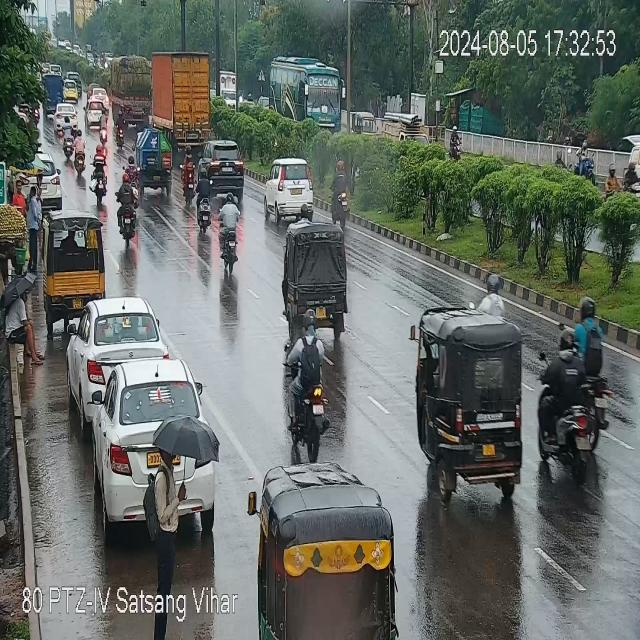2-wheelers: (540, 325, 622, 467), (285, 324, 327, 443), (216, 196, 241, 276), (118, 168, 143, 244), (328, 164, 351, 226), (90, 140, 110, 202), (196, 170, 213, 233), (179, 148, 197, 202), (72, 131, 87, 178), (114, 112, 127, 149), (448, 125, 462, 159)
auto: (250, 469, 397, 640), (414, 325, 535, 497), (284, 228, 354, 335), (46, 212, 108, 312), (134, 125, 174, 197), (353, 113, 378, 141)
bus: (272, 57, 345, 131)
car: (89, 360, 218, 536), (71, 298, 166, 401), (266, 162, 317, 216), (201, 144, 249, 200), (25, 155, 63, 207), (84, 93, 112, 128), (54, 106, 78, 133)
pedestrian: (140, 427, 192, 618), (7, 279, 42, 362), (24, 185, 44, 266)
truck: (151, 54, 225, 139), (112, 59, 150, 125)
